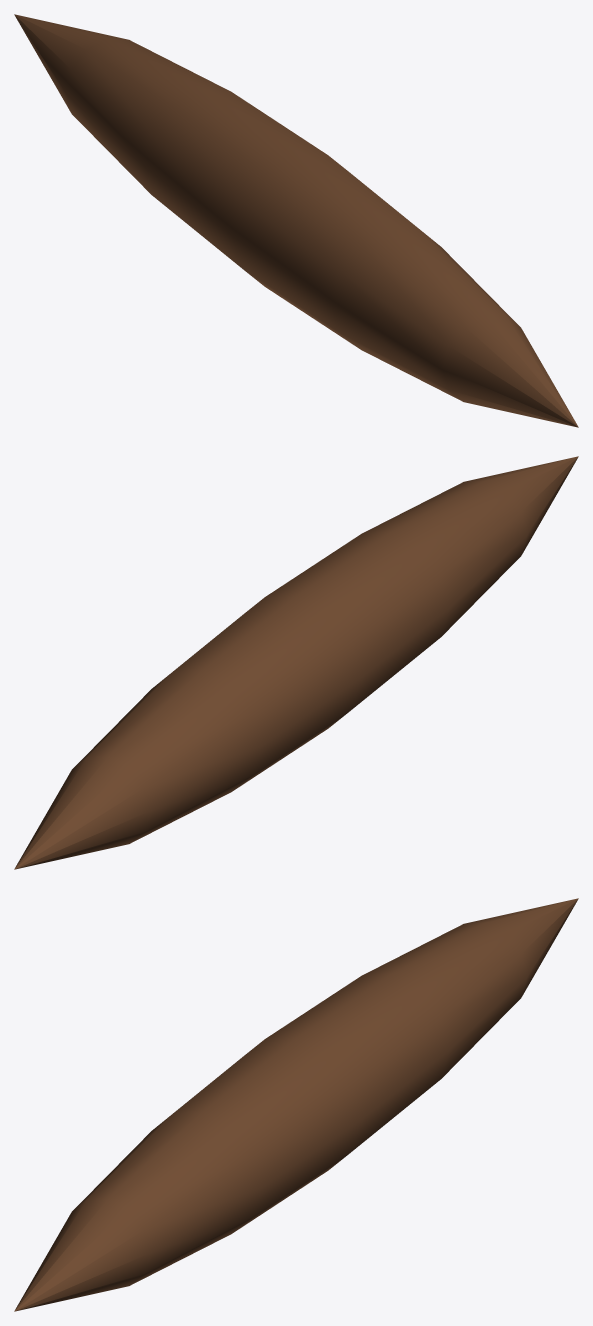
Rendered from kpfe_emitter.obj.
3 renders of one model, top to bottom at view 1: azimuth 30°, elevation 25°; view 2: azimuth 150°, elevation 25°; view 3: azimuth 330°, elevation 25°, orthographic.
Parts seen in each view (by area): view 1: kpfe_emitter; view 2: kpfe_emitter; view 3: kpfe_emitter.
Boxes of the visible parts, bbox=[...] form: kpfe_emitter: bbox=[14, 14, 578, 427]; kpfe_emitter: bbox=[14, 456, 578, 869]; kpfe_emitter: bbox=[14, 898, 578, 1311].
Size of the model in its own units: 0.6 by 0.6 by 4.6.
